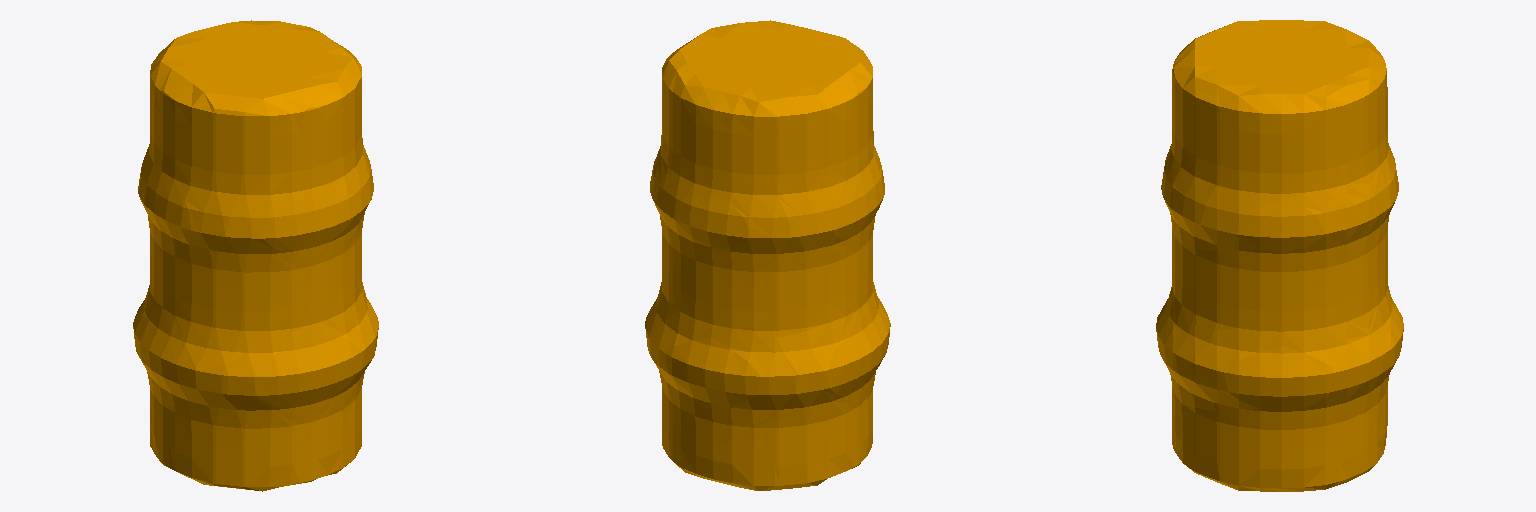
robot.urdf — cylinder_../../meshes/cylinders/cylinder_48.stl:
<?xml version="1.0" encoding="utf-8"?>  <robot name="cylinder_../../meshes/cylinders/cylinder_48.stl">   <link name="cylinder_../../meshes/cylinders/cylinder_48.stl">     <visual>       <geometry>         <mesh filename="../meshes/cylinders/cylinder_48.stl" scale="1 1 1"/>       </geometry>     </visual>     <collision>       <geometry>         <mesh filename="../meshes/cylinders/cylinder_48.stl" scale="1 1 1"/>       </geometry>     </collision>     <inertial>        <origin         xyz="0 0 0"         rpy="0 0 0" />       <mass value="0.20256150031367942"/>       <origin rpy="0 0 0" xyz="0 0 0"/>       <inertia ixx="0.00019586792053591238" ixy="-1.8089342623776867e-08" ixz="-1.5705624032916525e-08" iyy="0.00019586746484572952" iyz="-1.594700083805596e-08" izz="6.555313867539196e-05"/>     </inertial>   </link>  </robot>

--- Facts derived from the render (not from the file) ---
Views: 3 orthographic renders of the robot side by side, from view 1: azimuth 30°, elevation 25°; view 2: azimuth 150°, elevation 25°; view 3: azimuth 270°, elevation 25°.
Model cylinder_../../meshes/cylinders/cylinder_48.stl with 1 links and 0 joints (none), rooted at cylinder_../../meshes/cylinders/cylinder_48.stl, posed every joint at zero.
Visible links, largest first — view 1: cylinder_../../meshes/cylinders/cylinder_48.stl; view 2: cylinder_../../meshes/cylinders/cylinder_48.stl; view 3: cylinder_../../meshes/cylinders/cylinder_48.stl.
Boxes of the visible links, <box> form: cylinder_../../meshes/cylinders/cylinder_48.stl: <box>133,20,378,491</box>; cylinder_../../meshes/cylinders/cylinder_48.stl: <box>645,20,890,490</box>; cylinder_../../meshes/cylinders/cylinder_48.stl: <box>1156,20,1403,491</box>.
Bounding box of the posed robot: 0.057 × 0.057 × 0.1007 m (x, y, z).
1 mesh visuals loaded from 1 distinct referenced files (1 binary STL).